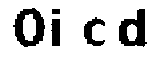0: (11, 6, 46, 49)
c: (79, 16, 107, 50)
d: (114, 5, 149, 51)
i: (52, 6, 68, 50)
